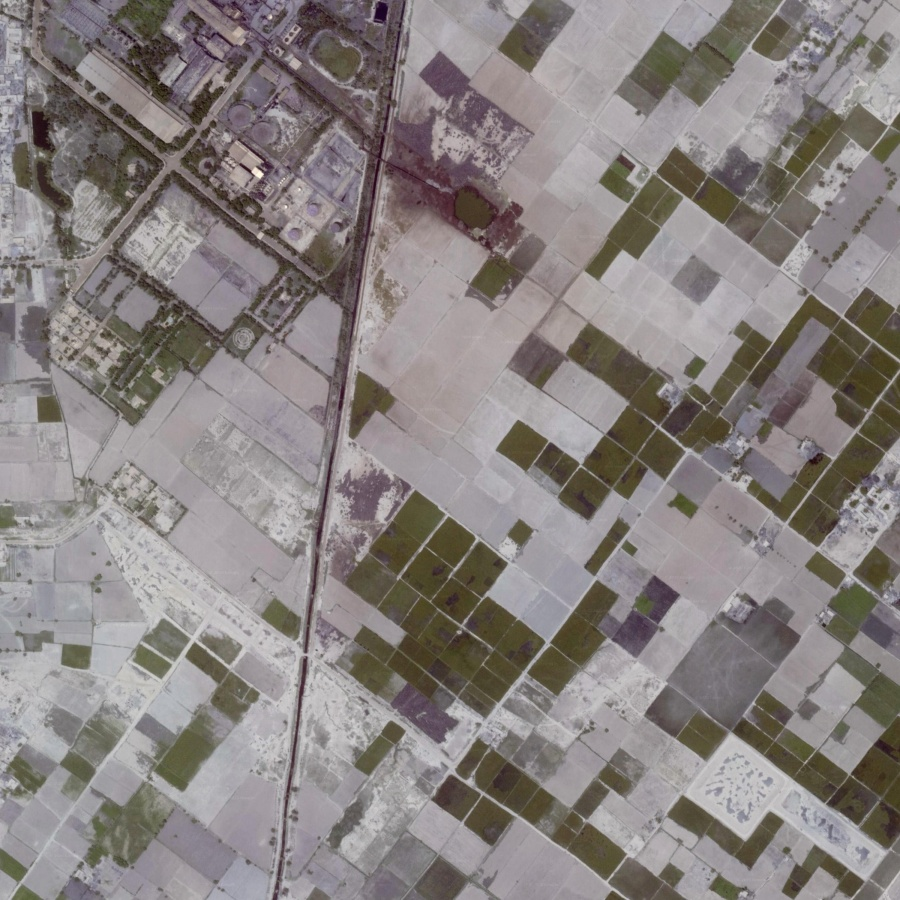PowerPlant: (174, 31, 364, 249)
